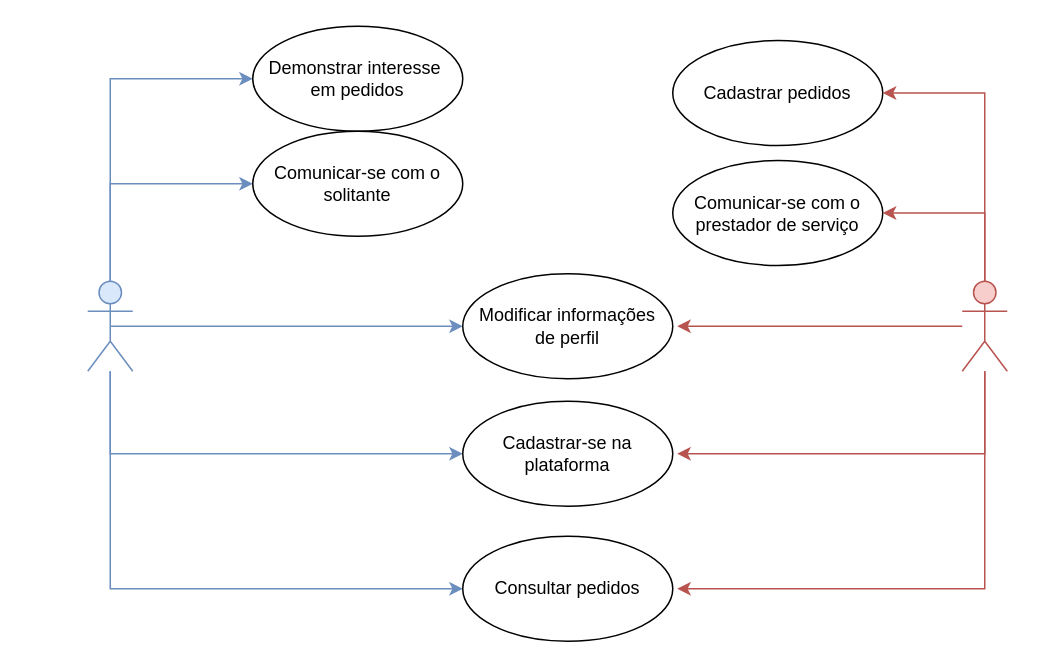
Some shapes in this 1038 by 668 pixel diagram are drawn without their labels. Here are the shapes that lost their labels. From the top down, the centre of each, then its label:
At point (109, 325): "Prestador de Serviço".
At point (984, 325): "Cliente".
